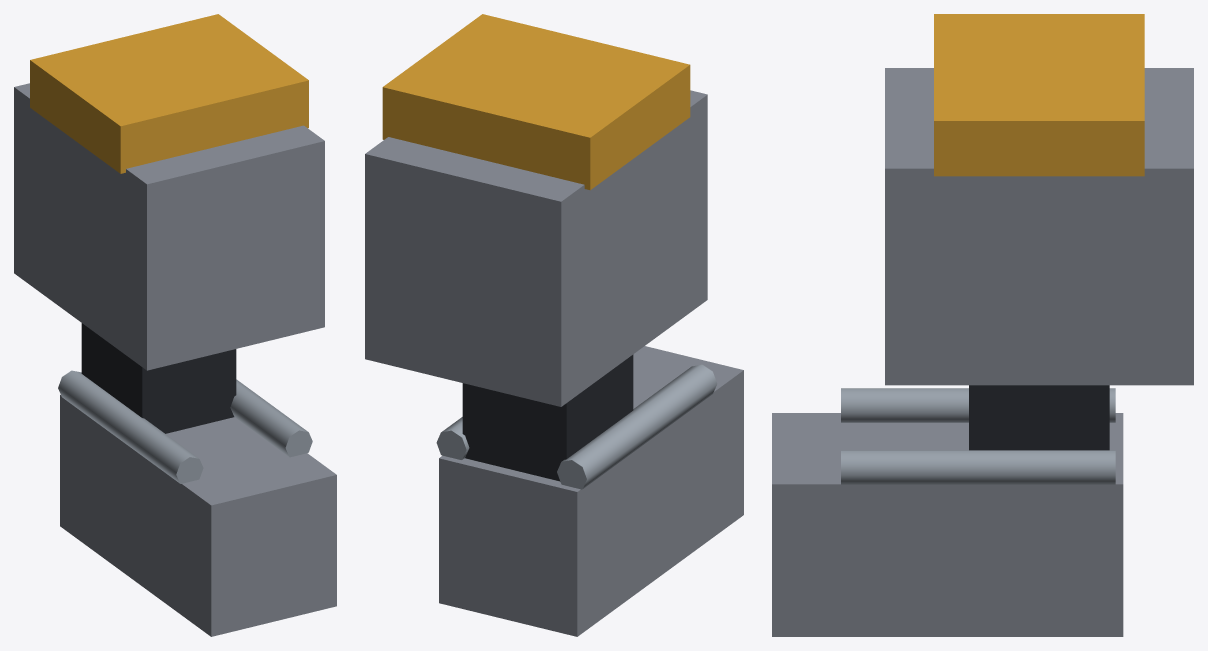
The model's file is arm_power.glb.
3 renders of one model, left to right at view 1: azimuth 30°, elevation 25°; view 2: azimuth 150°, elevation 25°; view 3: azimuth 270°, elevation 25°, orthographic. The views are drawn at different scales.
Visible parts, largest first — view 1: arm, fore, upper; view 2: arm, fore, upper; view 3: arm, fore, upper.
Part boxes in pixels (x1=…): arm: x1=14, y1=14, x2=324, y2=370; fore: x1=58, y1=370, x2=336, y2=636; upper: x1=81, y1=323, x2=236, y2=433; arm: x1=365, y1=14, x2=707, y2=406; fore: x1=436, y1=346, x2=743, y2=636; upper: x1=462, y1=354, x2=633, y2=481; arm: x1=885, y1=14, x2=1193, y2=385; fore: x1=772, y1=388, x2=1123, y2=636; upper: x1=969, y1=385, x2=1109, y2=450.
Bounding box in the file's own units: 0.414 × 0.9755 × 0.6905.
